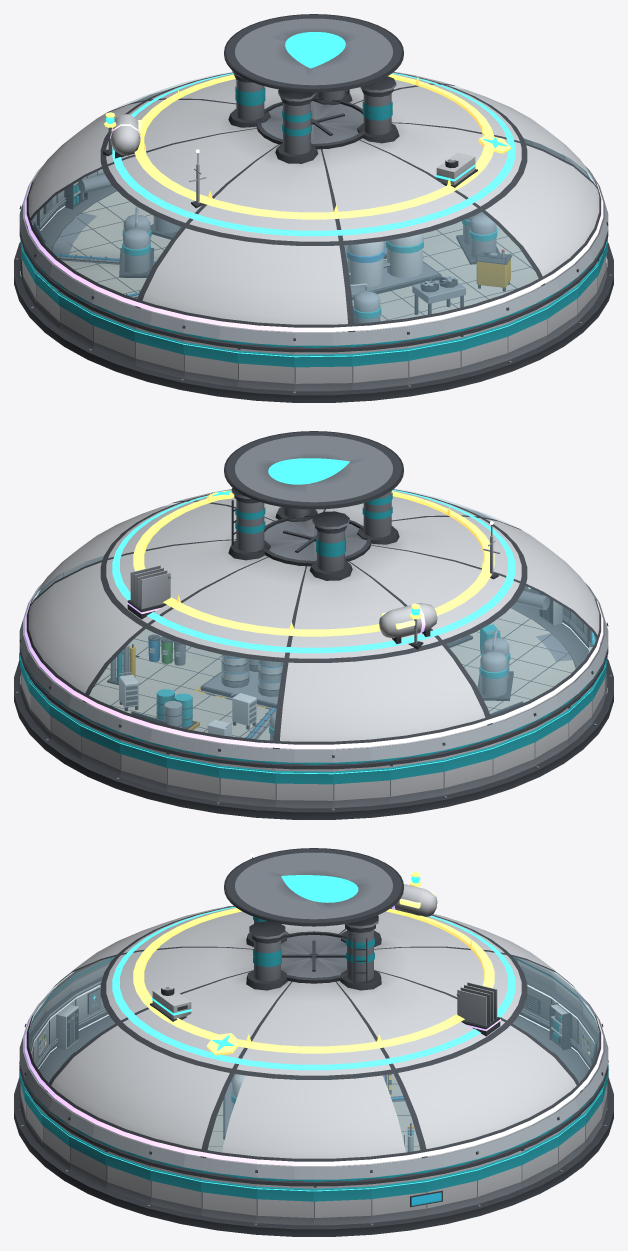
Rendered from oxygen_plant_xl.glb.
3 views of the same model, one above another, from view 1: azimuth 30°, elevation 25°; view 2: azimuth 150°, elevation 25°; view 3: azimuth 270°, elevation 25° (orthographic).
Parts seen in each view (by area): view 1: Roof, Base, Interior, L5, L3, Wall_21, Wall_20, Wall_22, Wall_19, Wall_23, Wall_18, Wall_24 (+14 smaller); view 2: Roof, Base, Interior, L5, L3, L4, Wall_10, Wall_11, Wall_09, Wall_12, Wall_08, Wall_13 (+15 smaller); view 3: Roof, Base, L5, L3, L4, Wall_00, Wall_31, Wall_30, Wall_01, Wall_29, Wall_02, Wall_28 (+21 smaller).
Boxes of the visible parts, box(x1,y1,x2,y2) form: Roof: box(19, 14, 608, 352); Base: box(14, 186, 613, 402); Interior: box(52, 207, 512, 323); L5: box(103, 74, 511, 219); L3: box(112, 72, 515, 236); Wall_21: box(294, 351, 352, 391); Wall_20: box(237, 347, 294, 391); Wall_22: box(352, 346, 408, 389); Wall_19: box(183, 340, 237, 386); Wall_23: box(408, 336, 461, 384); Wall_18: box(134, 327, 184, 378); Wall_24: box(460, 322, 508, 374); Roof: box(19, 431, 608, 769); Base: box(14, 603, 613, 819); Interior: box(107, 624, 572, 740); L5: box(133, 490, 494, 649); L3: box(112, 489, 515, 653); L4: box(127, 565, 437, 643); Wall_10: box(275, 768, 333, 808); Wall_11: box(333, 765, 390, 808); Wall_09: box(219, 763, 275, 806); Wall_12: box(390, 757, 444, 803); Wall_08: box(166, 752, 219, 801); Wall_13: box(443, 744, 493, 795); Roof: box(19, 848, 608, 1186); Base: box(14, 1016, 613, 1236); L5: box(133, 872, 494, 1055); L3: box(112, 906, 515, 1070); L4: box(390, 883, 500, 1036); Wall_00: box(314, 1184, 371, 1225); Wall_31: box(256, 1184, 313, 1225); Wall_30: box(201, 1177, 256, 1222); Wall_01: box(371, 1177, 426, 1222); Wall_29: box(150, 1166, 201, 1215); Wall_02: box(426, 1166, 477, 1215); Wall_28: box(105, 1149, 150, 1204).
Size of the model in its own units: 17.76 by 7.33 by 17.76.
